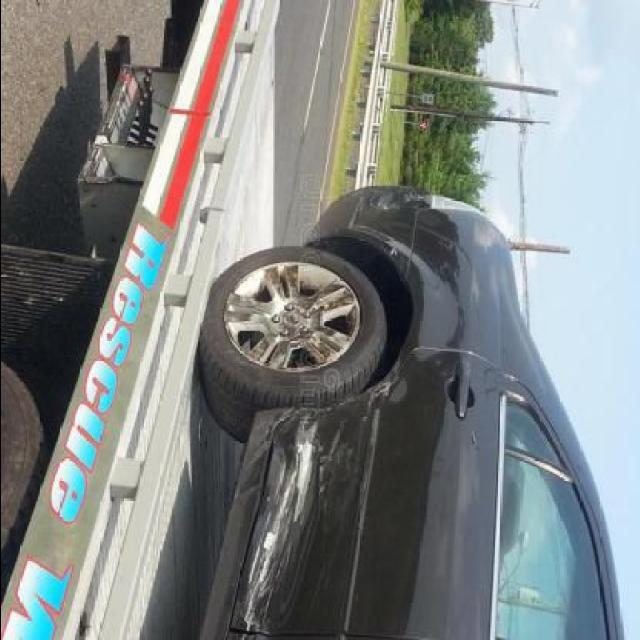doorouter-dent: (216, 359, 499, 640)
